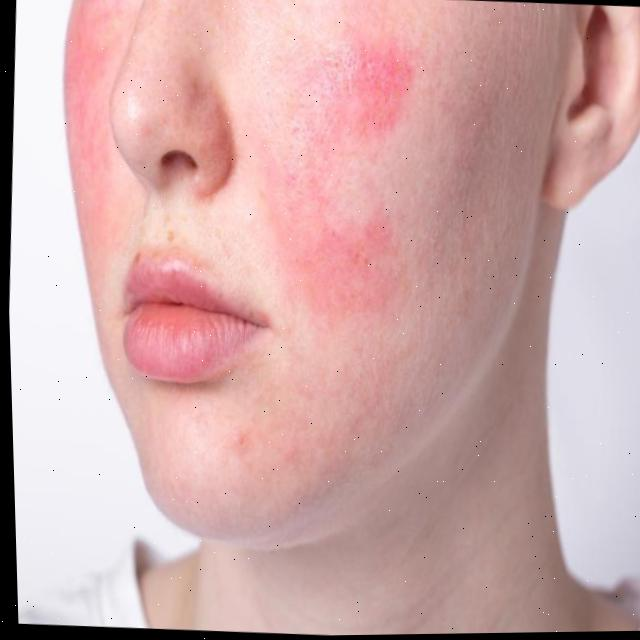Rosacea: (262, 42, 428, 320), (49, 0, 125, 281)
